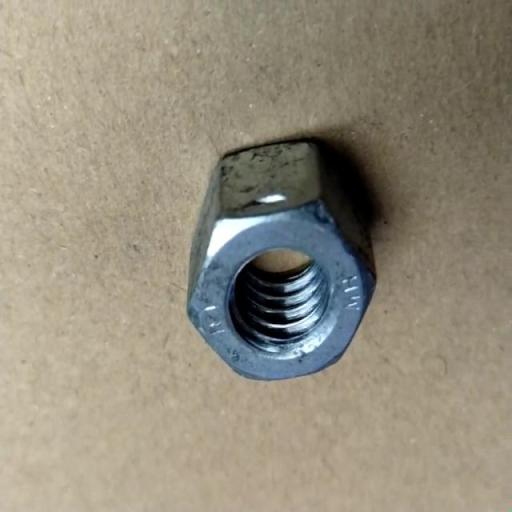Nut: (187, 137, 376, 382)
